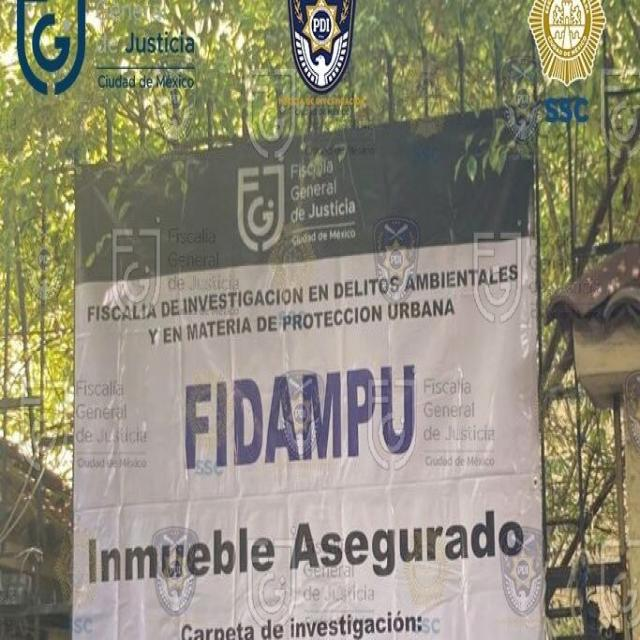stamps: (72, 114, 543, 639)
